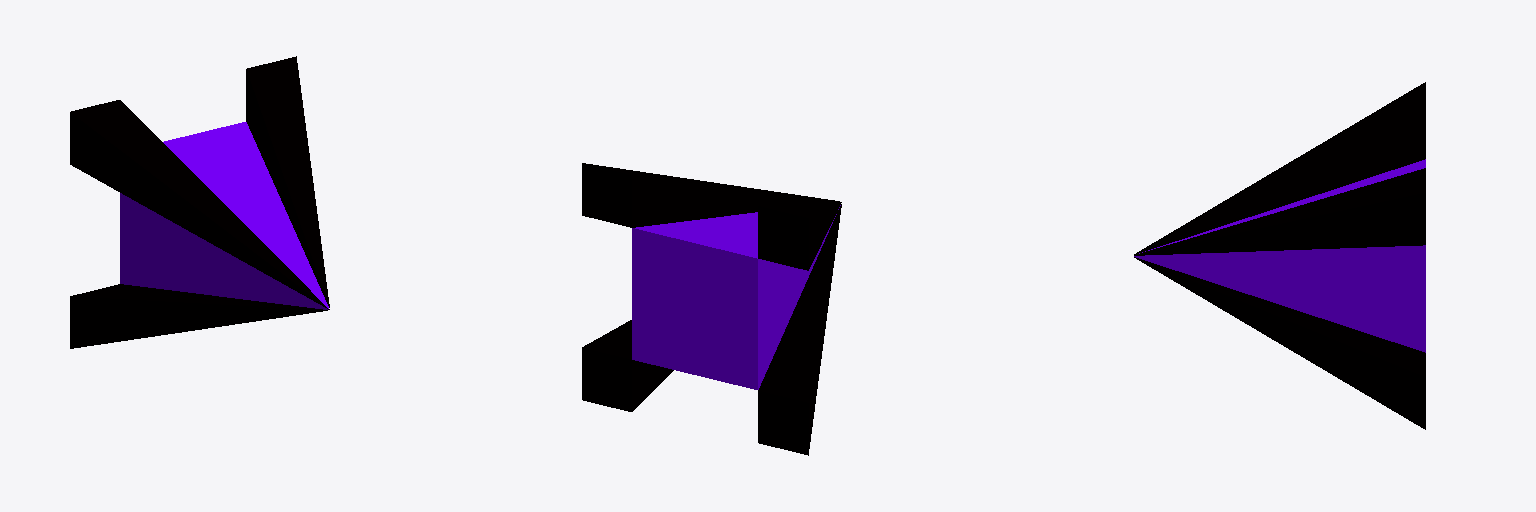
The model's file is Pointer3.obj.
3 views of the same model, side by side, from view 1: azimuth 30°, elevation 25°; view 2: azimuth 150°, elevation 25°; view 3: azimuth 270°, elevation 25° (orthographic).
Parts seen in each view (by area): view 1: pCube41 Pointer3; view 2: pCube41 Pointer3; view 3: pCube41 Pointer3.
Boxes of the visible parts, box(x1,y1,x2,y2) form: pCube41 Pointer3: box(70, 56, 329, 348); pCube41 Pointer3: box(582, 163, 841, 455); pCube41 Pointer3: box(1134, 82, 1425, 429).
Bounding box in the file's own units: 0.54 × 0.54 × 0.6.